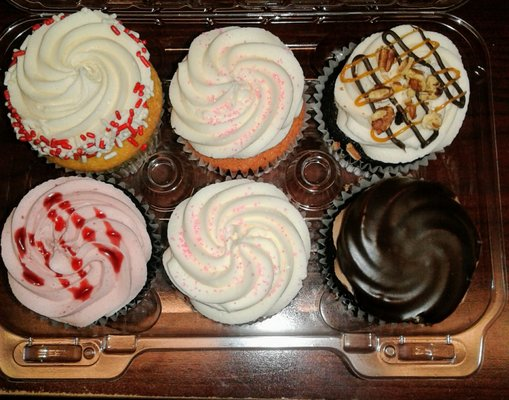salad: (1, 8, 164, 173), (1, 176, 153, 328)
sushi: (1, 8, 165, 173), (167, 25, 308, 177), (323, 27, 470, 169)
